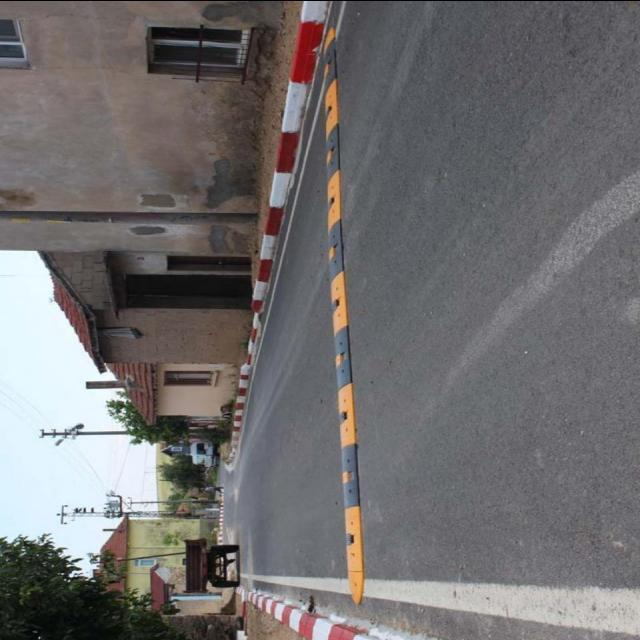speedbreaker: (308, 33, 377, 607)
